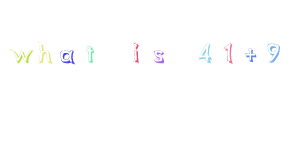+: (239, 43, 262, 68)
1: (217, 35, 240, 69)
4: (190, 35, 220, 72)
9: (260, 33, 286, 70)
a: (56, 44, 78, 69)
h: (34, 37, 56, 67)
i: (123, 36, 148, 69)
s: (147, 44, 174, 67)
t: (80, 43, 102, 68)
w: (6, 38, 36, 68)
